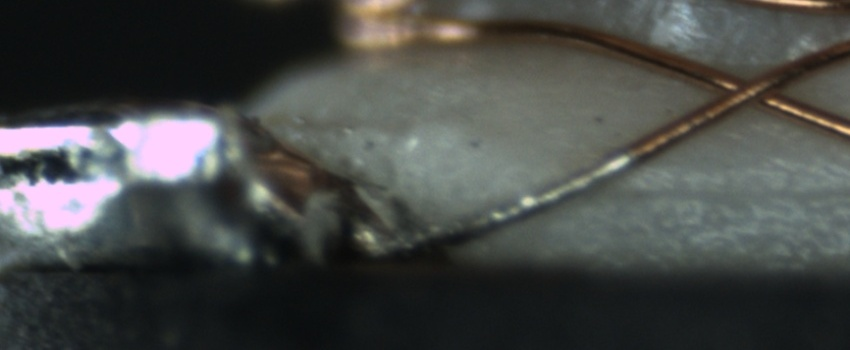CL: (695, 62, 811, 118)
DL: (600, 160, 850, 224)
TS: (410, 151, 632, 249)
